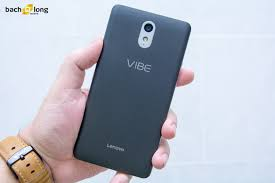lenovo: (71, 3, 191, 180)
